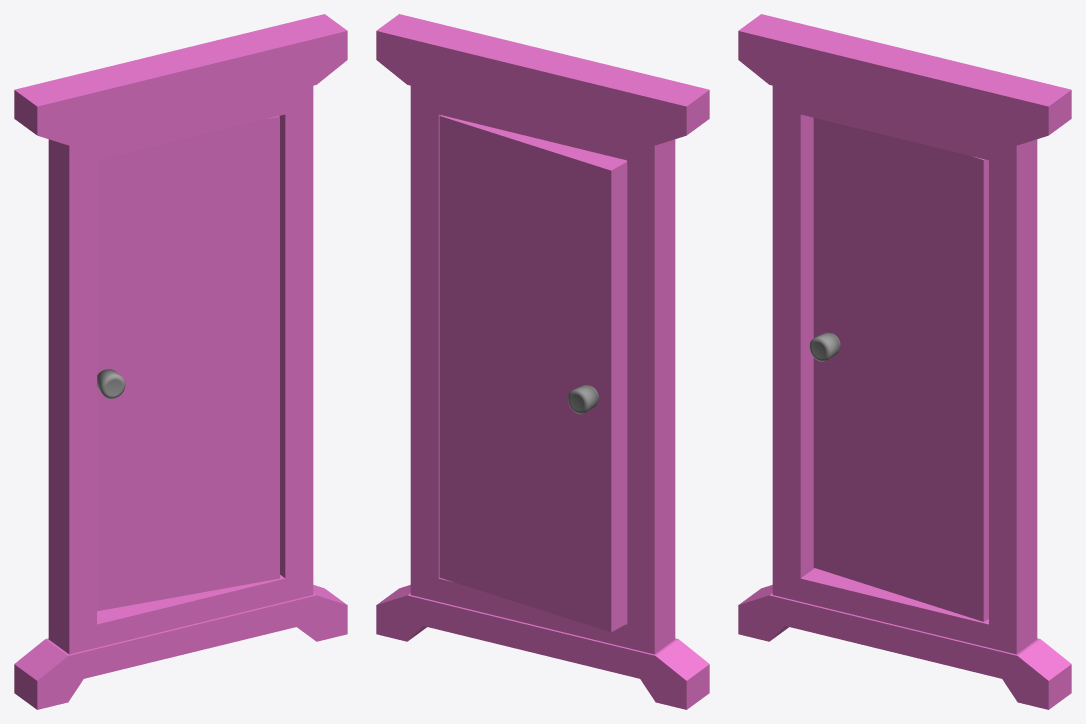
The model's file is dokodemoDoor.fbx.
3 renders of one model, left to right at view 1: azimuth 30°, elevation 25°; view 2: azimuth 150°, elevation 25°; view 3: azimuth 330°, elevation 25°, orthographic.
Parts seen in each view (by area): view 1: 立方体, Cube, 立方体.001, 立方体.002, 円柱; view 2: 立方体, Cube, 立方体.001, 立方体.002, 円柱.001; view 3: 立方体, Cube, 立方体.001, 立方体.002, 円柱.
Boxes of the visible parts, x1,y1,x2,y2 form: 立方体: (97, 116, 279, 611); Cube: (48, 86, 313, 654); 立方体.001: (14, 14, 347, 145); 立方体.002: (14, 585, 347, 709); 円柱: (97, 369, 125, 398); 立方体: (439, 115, 627, 632); Cube: (410, 86, 675, 654); 立方体.001: (376, 14, 709, 145); 立方体.002: (376, 585, 709, 709); 円柱.001: (568, 385, 598, 414); 立方体: (813, 118, 988, 621); Cube: (772, 86, 1037, 654); 立方体.001: (738, 14, 1071, 145); 立方体.002: (738, 585, 1071, 709); 円柱: (809, 332, 840, 361).
Size of the model in its own units: 140 by 260 by 35.5.
